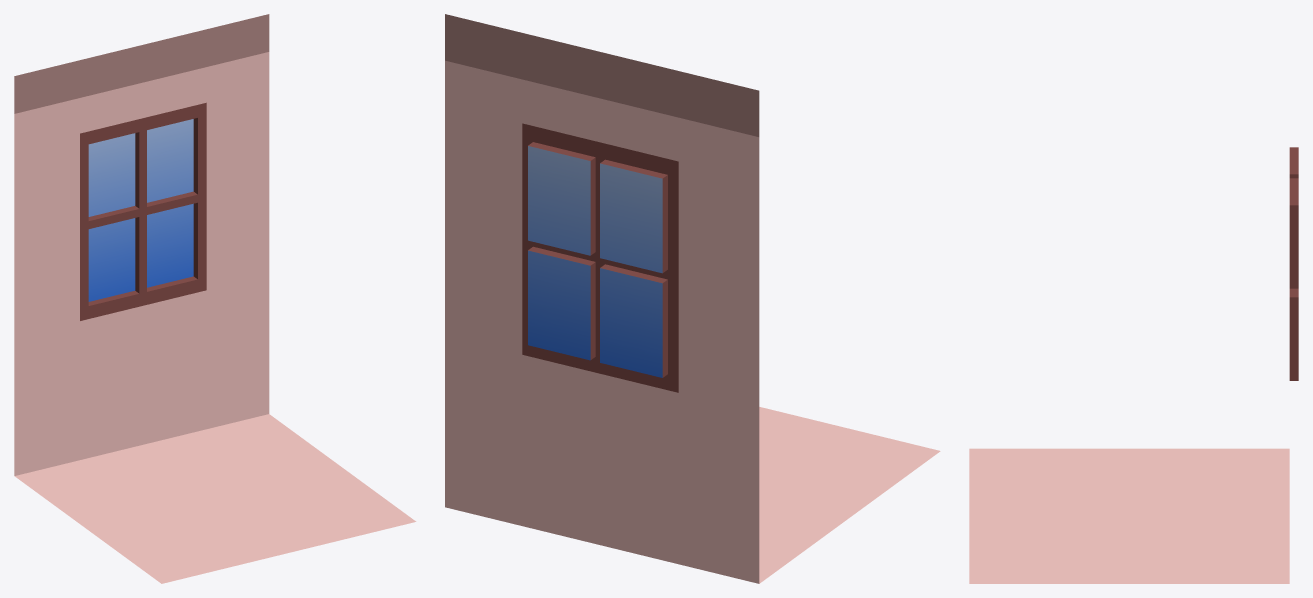
Rendered from Wall_With_Window.fbx.
3 views of the same model, side by side, from view 1: azimuth 30°, elevation 25°; view 2: azimuth 150°, elevation 25°; view 3: azimuth 270°, elevation 25° (orthographic). The views are drawn at different scales.
Parts seen in each view (by area): view 1: Wall_With_Window; view 2: Wall_With_Window; view 3: Wall_With_Window.
Part boxes in pixels (box(x1,y1,x2,y2)): Wall_With_Window: box(14, 14, 416, 583); Wall_With_Window: box(445, 14, 940, 583); Wall_With_Window: box(969, 147, 1298, 583).
Size of the model in its own units: 2 by 3 by 2.06.
